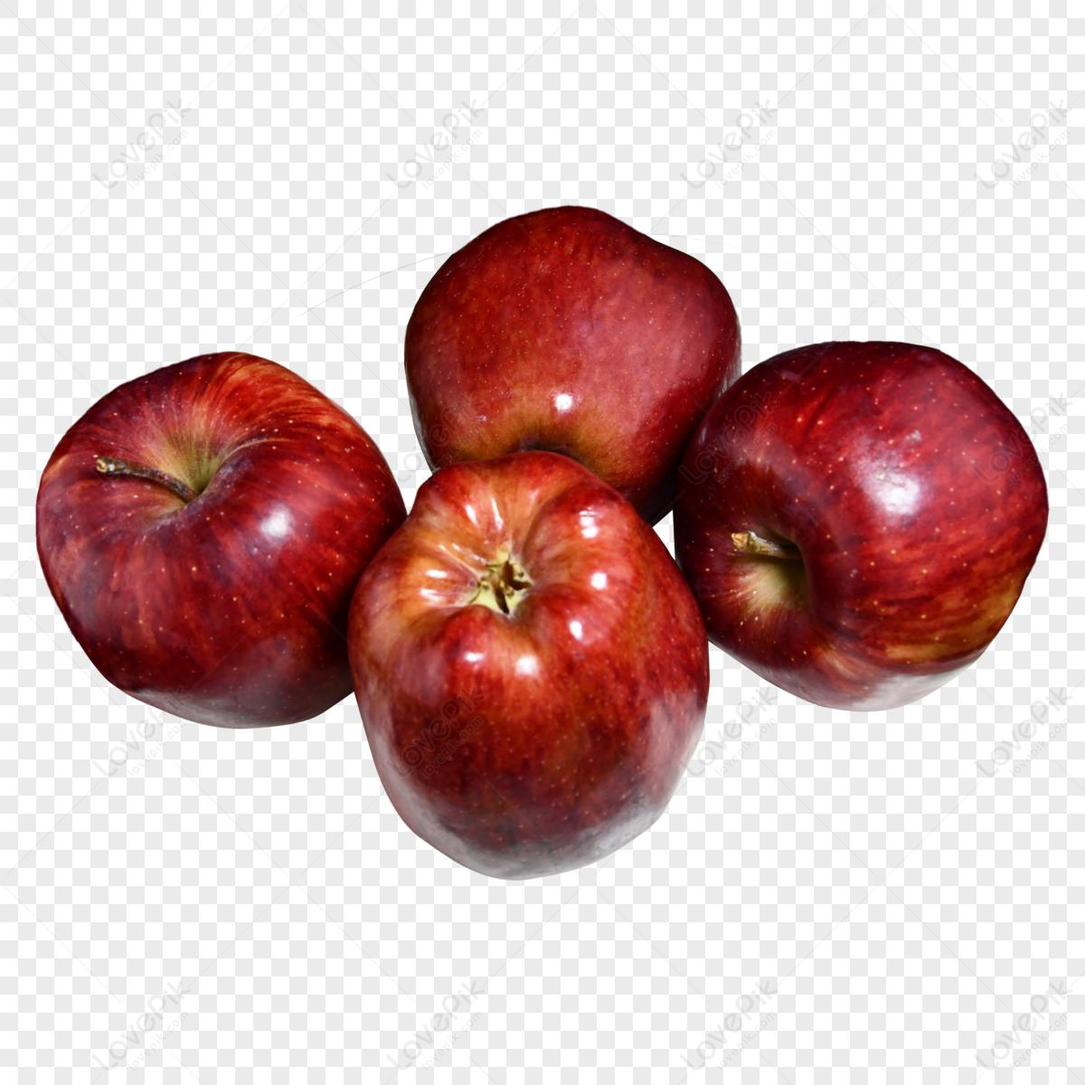apples: (23, 189, 1070, 885)
